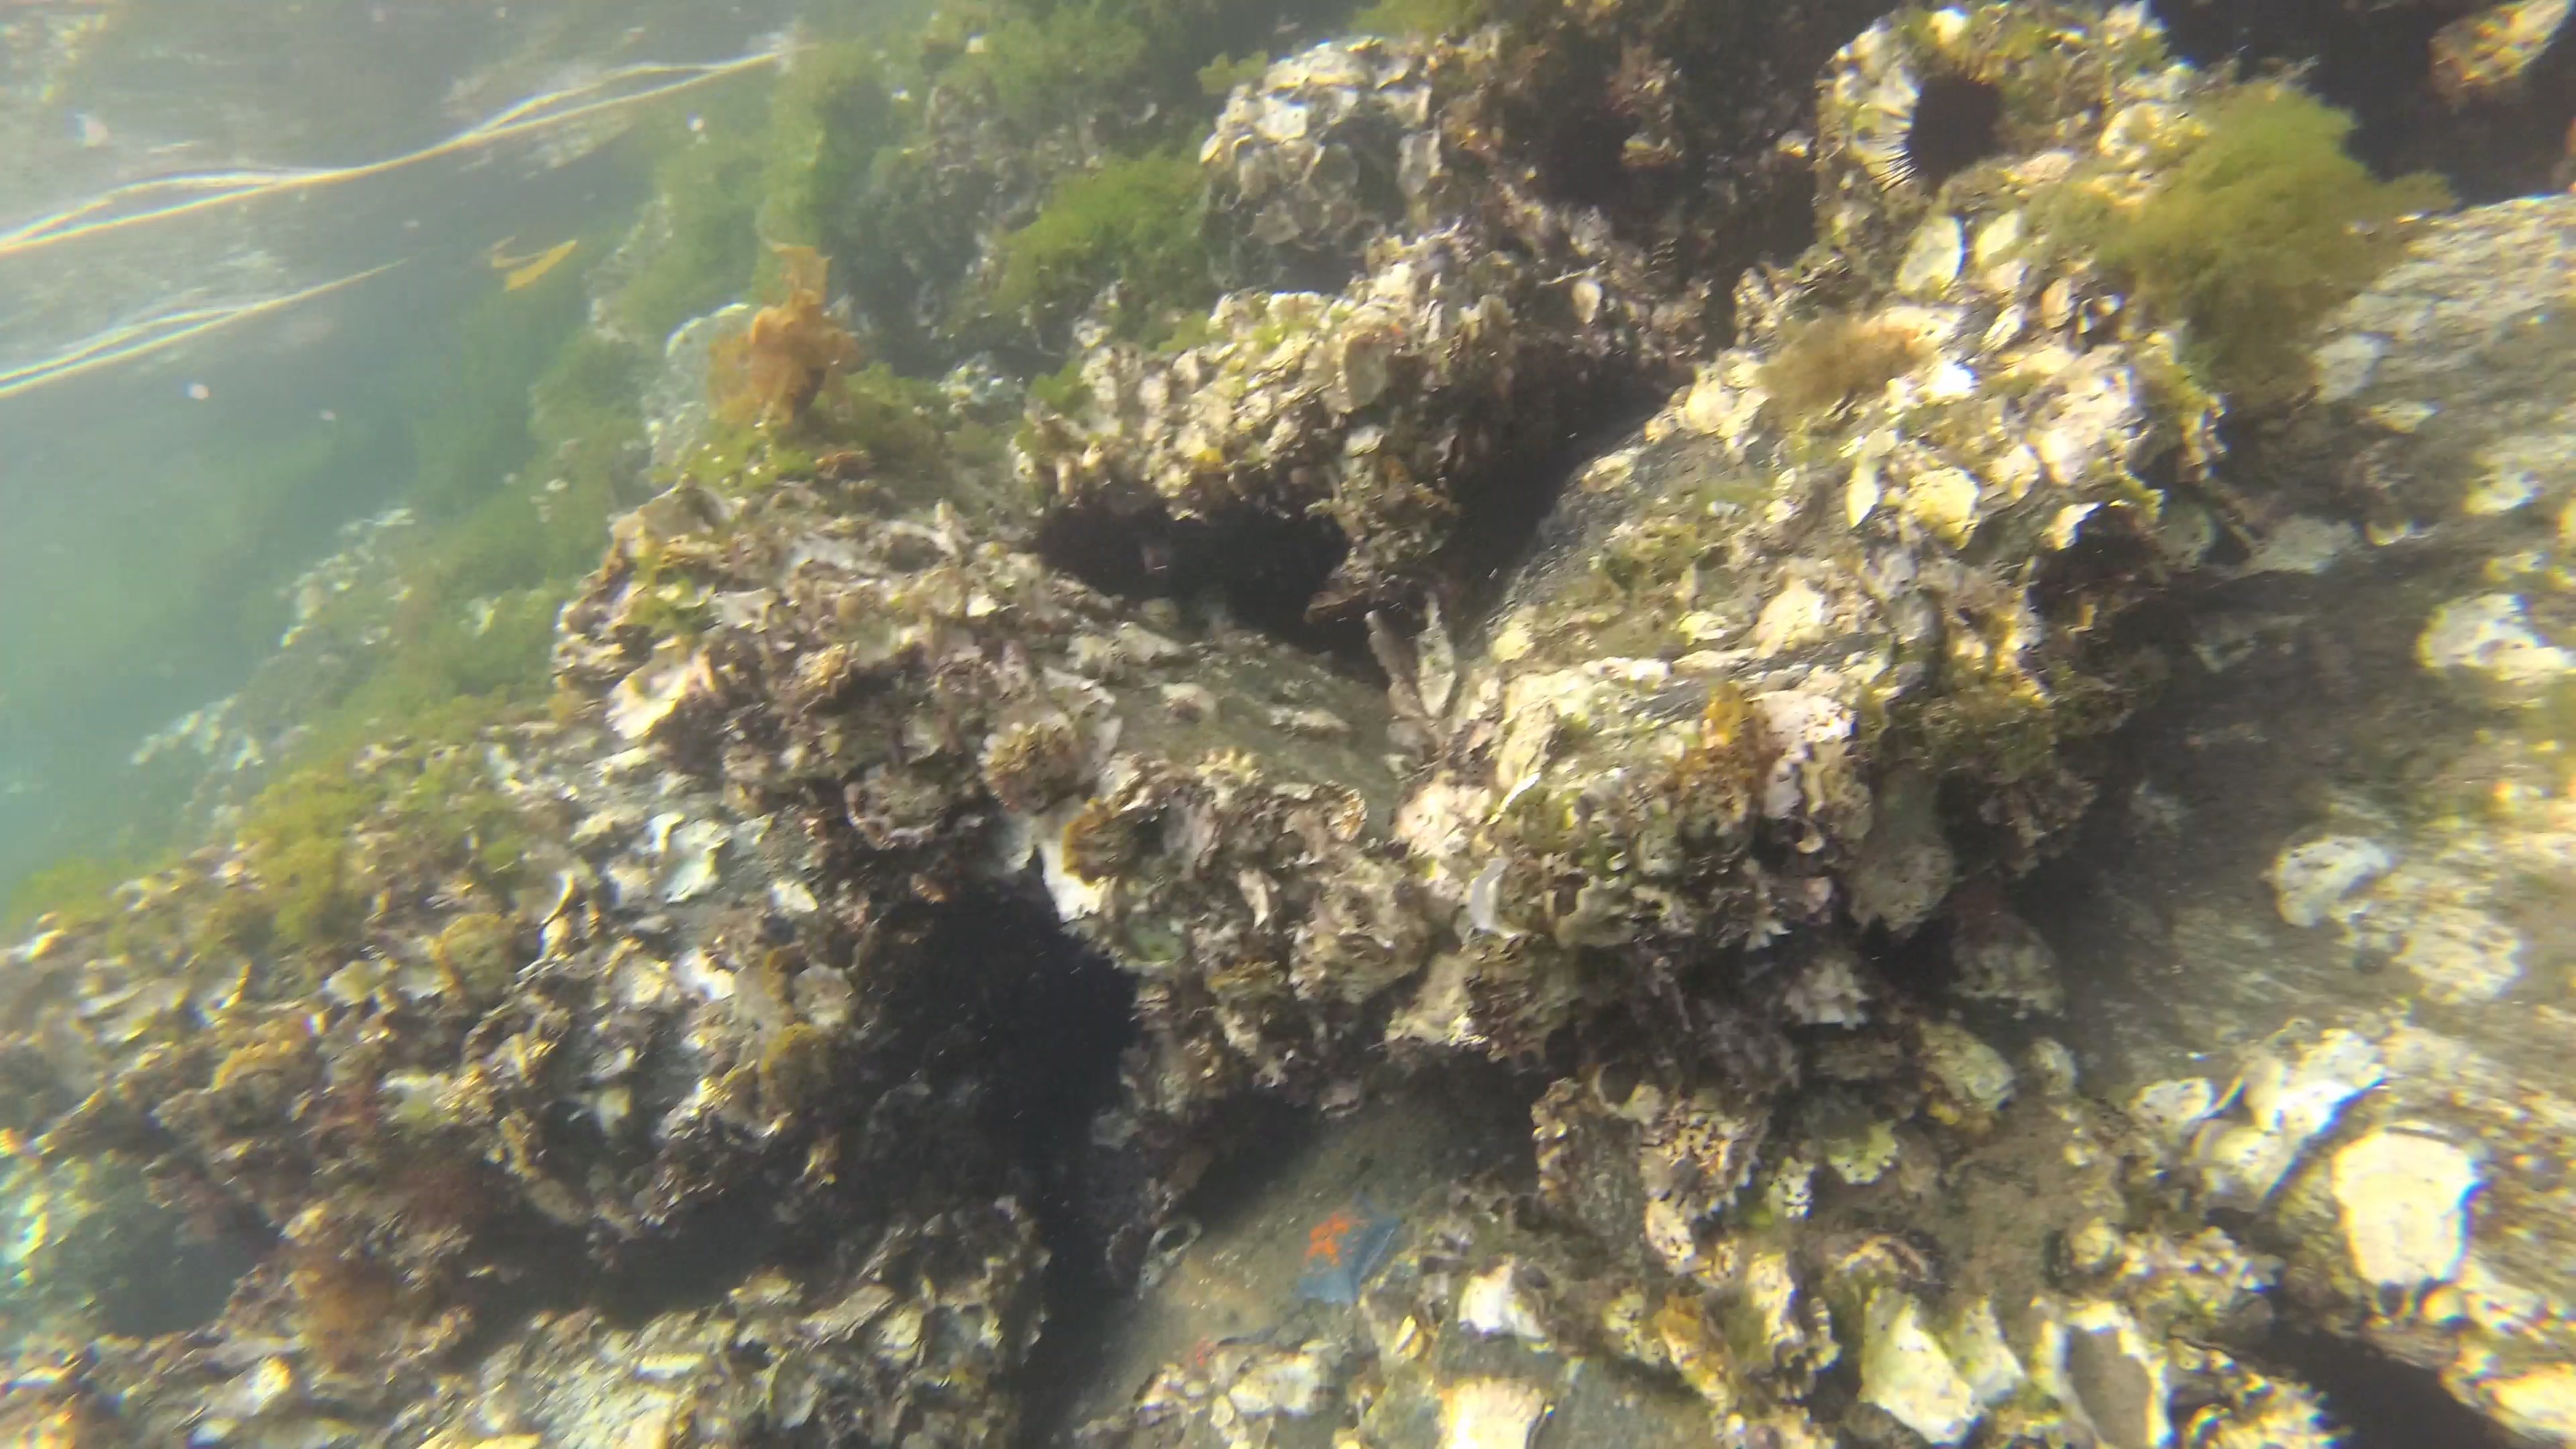starfish: (1897, 64, 2010, 186), (1023, 502, 1148, 603), (1297, 1198, 1403, 1304)
